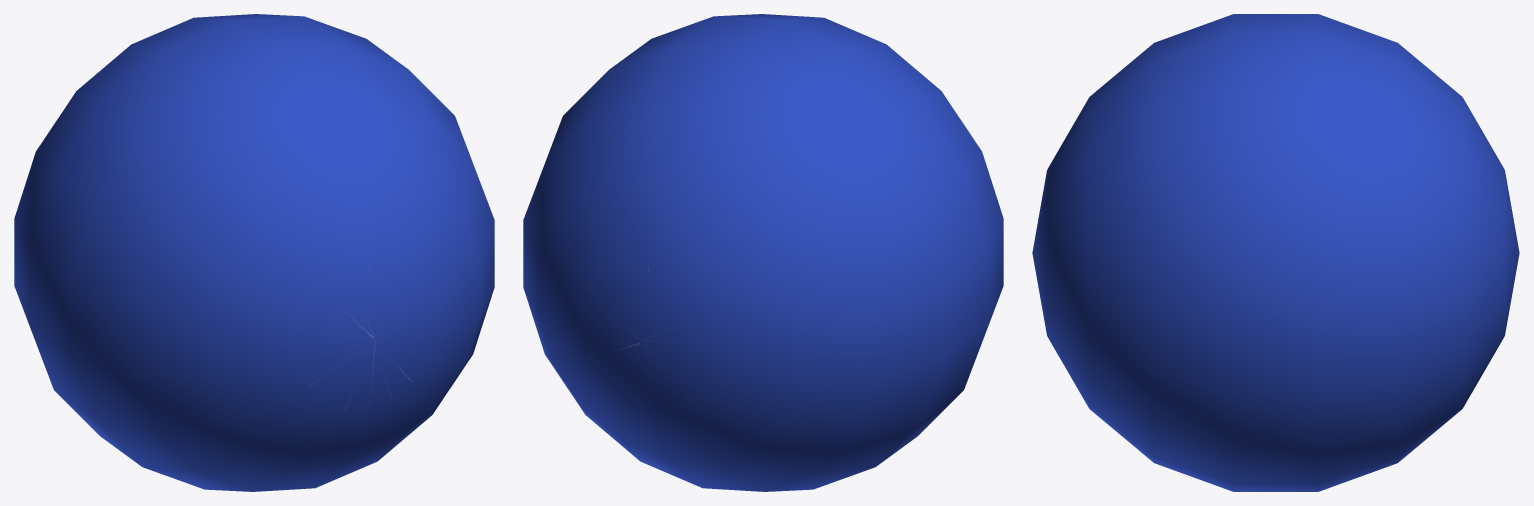
Rendered from Neutron.DAE.
The picture shows the model from 3 angles, left to right: view 1: azimuth 30°, elevation 25°; view 2: azimuth 150°, elevation 25°; view 3: azimuth 270°, elevation 25°; orthographic projection.
Parts seen in each view (by area): view 1: Sphere001; view 2: Sphere001; view 3: Sphere001.
Boxes of the visible parts, x1,y1,x2,y2 form: Sphere001: [14, 14, 494, 491]; Sphere001: [523, 14, 1003, 491]; Sphere001: [1032, 14, 1519, 491].
Bounding box in the file's own units: 15.27 × 15.75 × 15.51.
2 materials, 2 textured.
